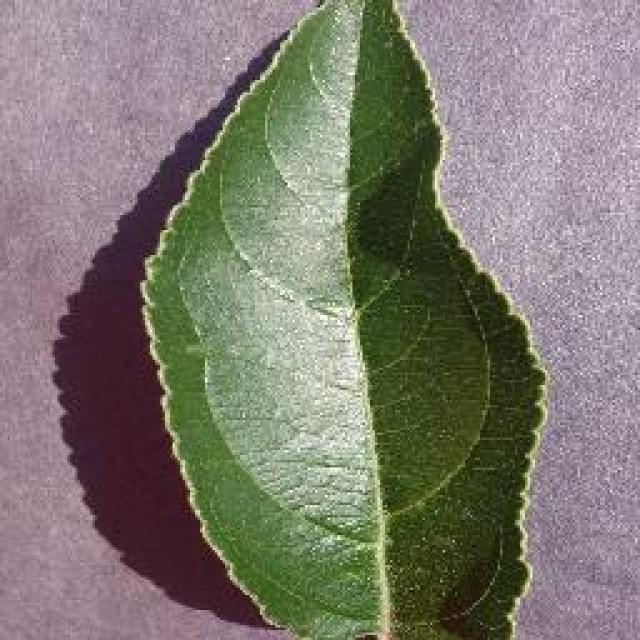apple healthy: (135, 0, 550, 638)
